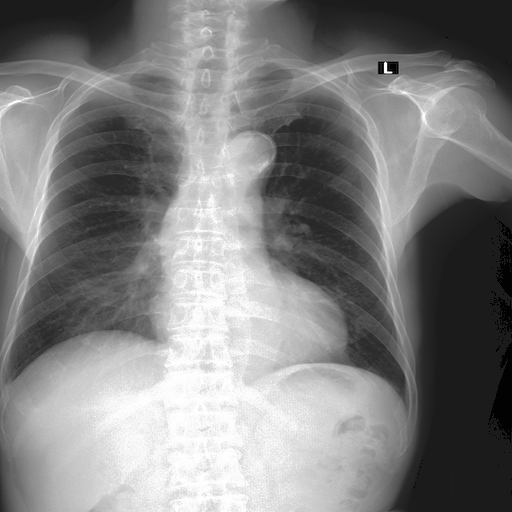Calcification: (0, 373, 16, 394)
Consolidation: (217, 130, 277, 175)
Pleural effusion: (0, 373, 16, 394)
